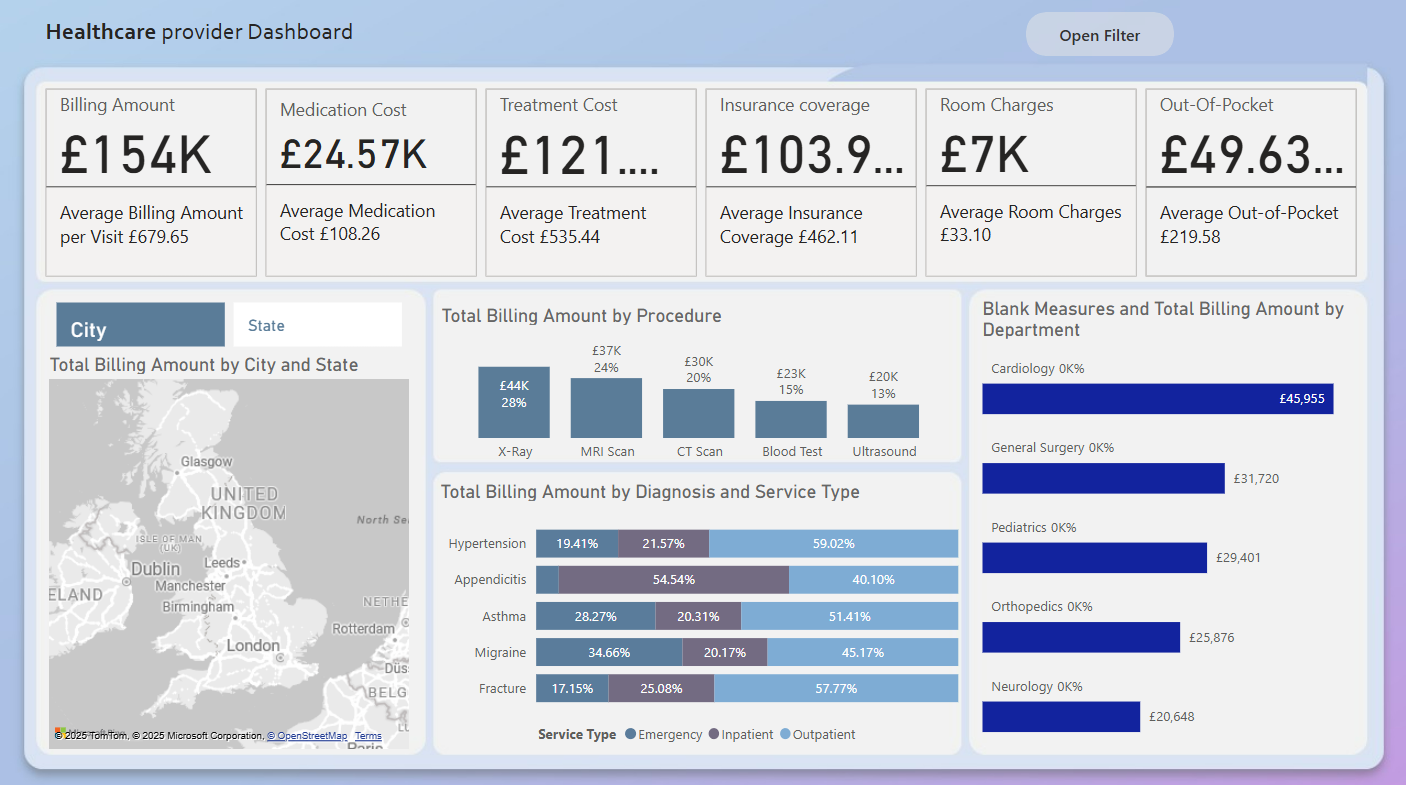

Layout of this report page (visuals, bound fields, positions):
{"tool":"powerbi","page":{"name":"Page 2","canvas":[1280,720],"ordinal":1},"visuals":[{"type":"cardVisual","fields":{"Data":["DAX Calculation.Total Billing Amount","DAX Calculation.Total Medication cost","DAX Calculation.Total Treatment Cost","DAX Calculation.Total Insurance Coverage","DAX Calculation.Total Room Charges","DAX Calculation.Out-of-Pocket"]},"box":[36.4,75.5,1205.5,181.8],"z":0},{"type":"actionButton","title":"Open Filter","box":[932.7,10.9,134.5,40],"z":1000,"group":"g1"},{"type":"filledMap","title":"Total Billing Amount by City and State","fields":{"Category":["cities.City","cities.City"],"Series":["cities.State"]},"box":[40,320.9,337.3,364.5],"z":1000},{"type":"advancedSlicerVisual","fields":{"Values":["Patients location switch.Patients location switch"]},"box":[46.4,270,324.5,50.9],"z":2000},{"type":"clusteredColumnChart","fields":{"Category":["procedures.Procedure"],"Y":["DAX Calculation.Total Billing Amount"]},"box":[396.4,276.4,480,151.8],"z":3000},{"type":"hundredPercentStackedBarChart","fields":{"Y":["DAX Calculation.Total Billing Amount"],"Category":["diagnoses.Diagnosis"],"Series":["visits.Service Type"]},"box":[395.5,436.4,480.9,249.1],"z":4000},{"type":"clusteredBarChart","fields":{"Category":["departments.Department"],"Y":["DAX Calculation.Blank Measures","DAX Calculation.Total Billing Amount"]},"box":[888.2,270,357.3,419.1],"z":5000},{"type":"textbox","box":[36.4,10,401.8,40.9],"z":6000},{"type":"group","id":"g1","title":"slicer btn","box":[780,10.9,287.3,40],"z":8000}]}

Visuals, with their boxes in screenshot pixels (x1, y1, x2, y2), scaled from the page's 1280x720 canvas onto the 1406x785 screenshot:
cardVisual - DAX Calculation.Total Billing Amount x DAX Calculation.Total Medication cost: {"left": 40, "top": 82, "right": 1364, "bottom": 281}
"Open Filter" actionButton: {"left": 1025, "top": 12, "right": 1172, "bottom": 55}
"Total Billing Amount by City and State" filledMap: {"left": 44, "top": 350, "right": 414, "bottom": 747}
advancedSlicerVisual - Patients location switch.Patients location switch: {"left": 51, "top": 294, "right": 407, "bottom": 350}
clusteredColumnChart - procedures.Procedure x DAX Calculation.Total Billing Amount: {"left": 435, "top": 301, "right": 963, "bottom": 467}
hundredPercentStackedBarChart - DAX Calculation.Total Billing Amount x diagnoses.Diagnosis: {"left": 434, "top": 476, "right": 963, "bottom": 747}
clusteredBarChart - departments.Department x DAX Calculation.Blank Measures: {"left": 976, "top": 294, "right": 1368, "bottom": 751}
textbox: {"left": 40, "top": 11, "right": 481, "bottom": 55}
"slicer btn" group: {"left": 857, "top": 12, "right": 1172, "bottom": 55}
